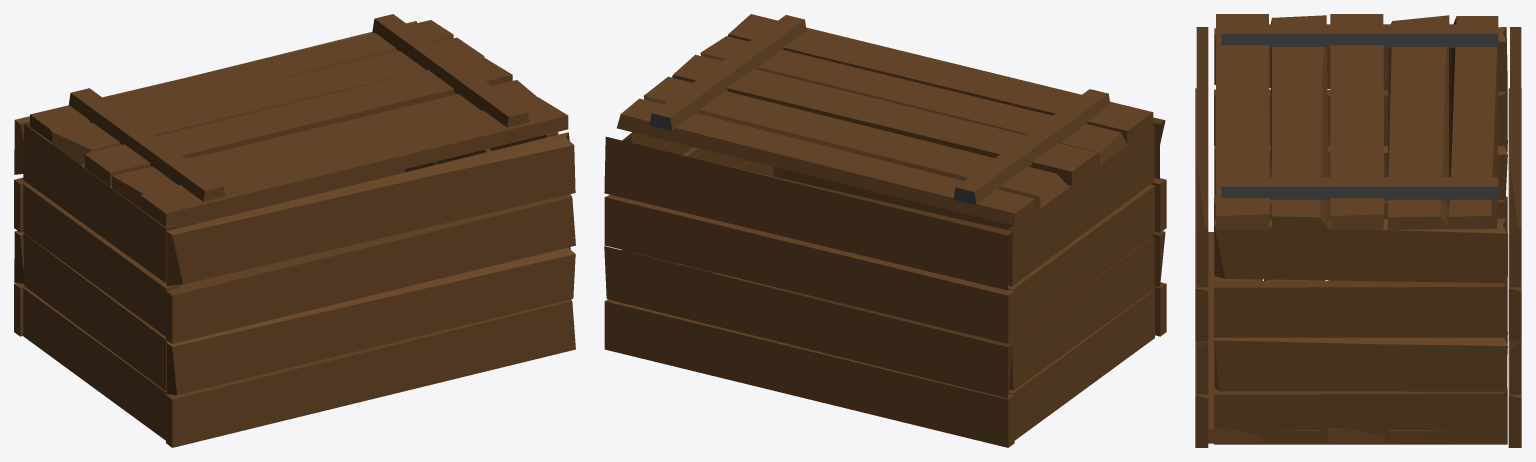
File: SM_wooden_box_01.fbx
3 renders of one model, left to right at view 1: azimuth 30°, elevation 25°; view 2: azimuth 150°, elevation 25°; view 3: azimuth 270°, elevation 25°, orthographic. The views are drawn at different scales.
Parts seen in each view (by area): view 1: Object507; view 2: Object507; view 3: Object507.
Part boxes in pixels (left/top/right/bottom): Object507: left=14, top=14, right=575, bottom=447; Object507: left=604, top=14, right=1166, bottom=447; Object507: left=1195, top=14, right=1521, bottom=447.
Bounding box in the file's own units: 67.33 × 37.51 × 45.52.
